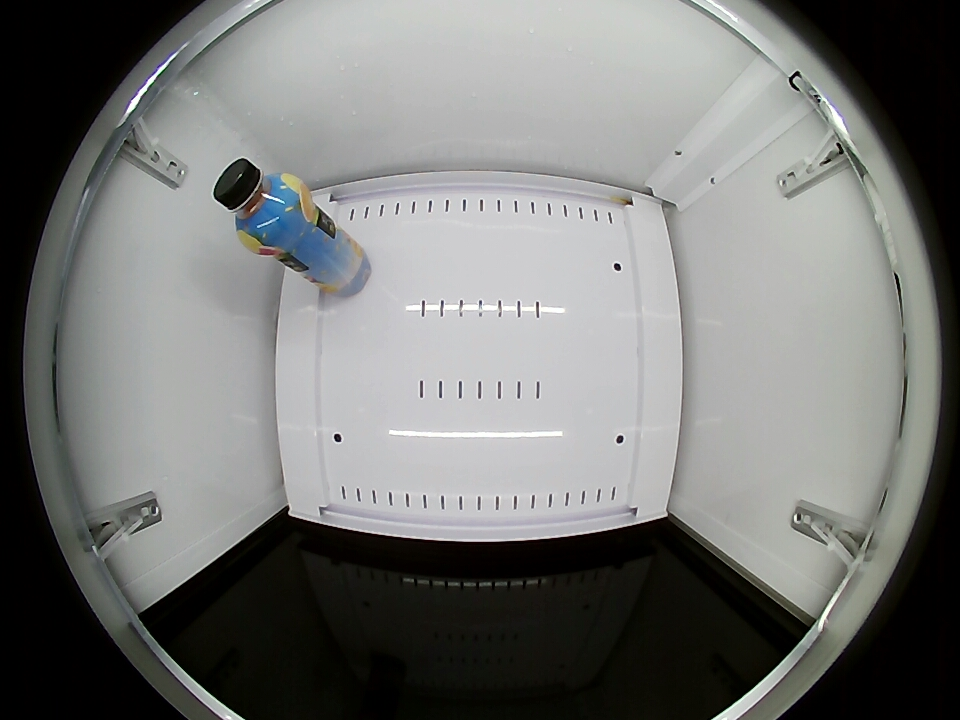guolicheng2: (213, 158, 306, 252)
